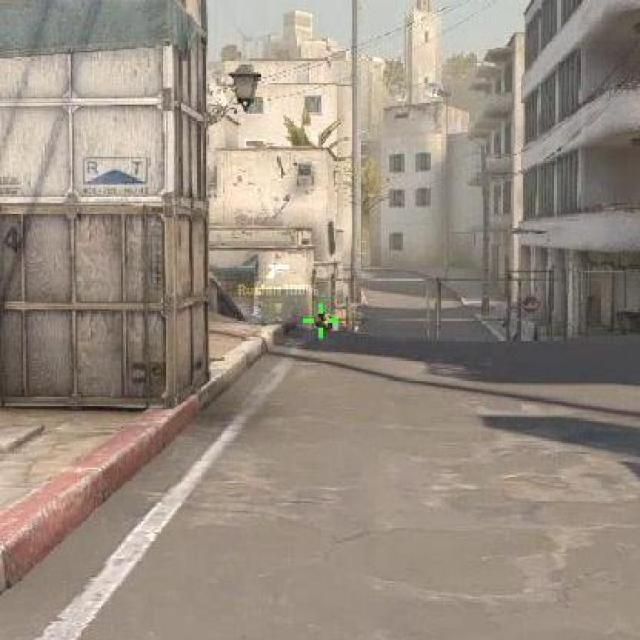CT: (314, 309, 331, 331)
CT_HEAD: (317, 310, 326, 318)
